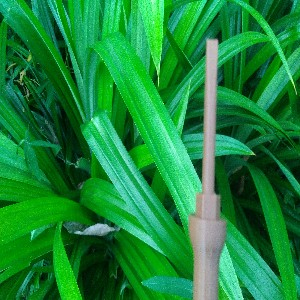obeng: (189, 37, 229, 300)
